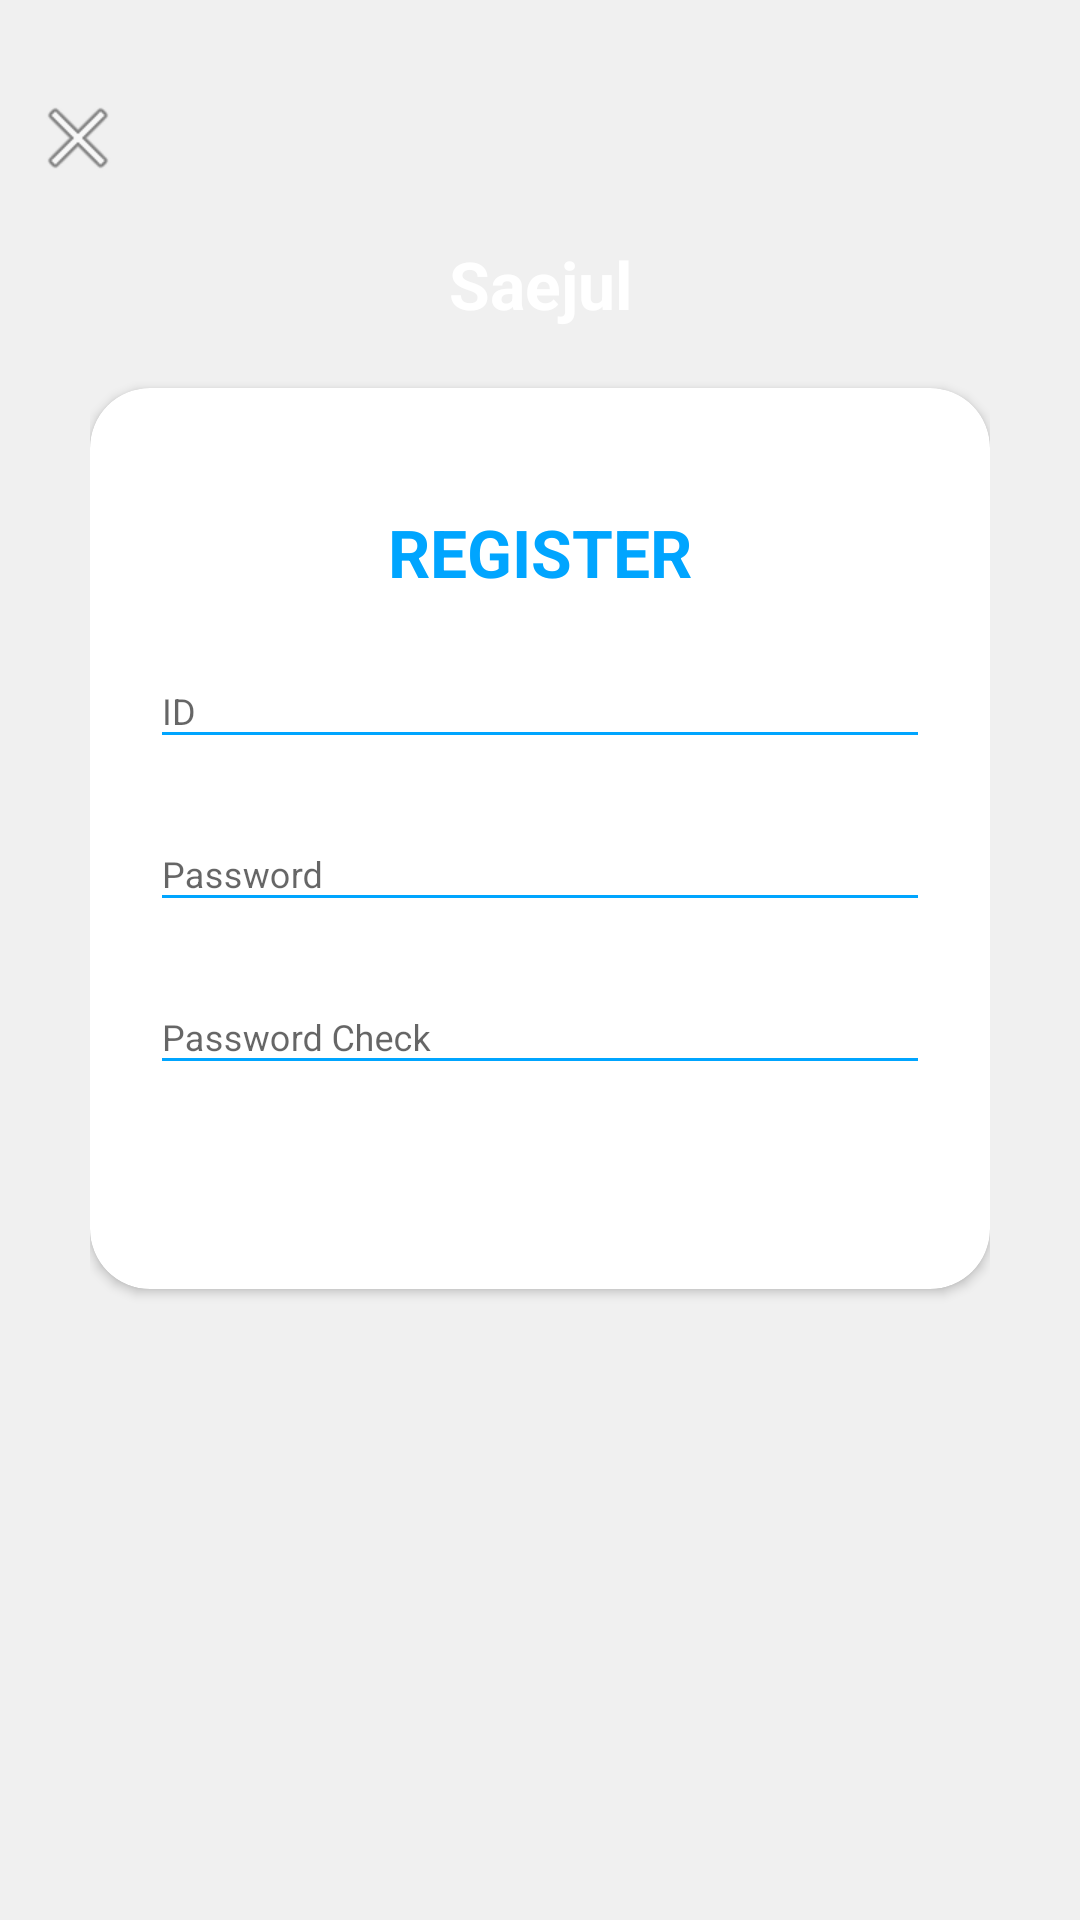

Screen size 1080w x 1920h. Icon name, then its center in pixels as [x,y]:
close clear cancel: [78,138]
